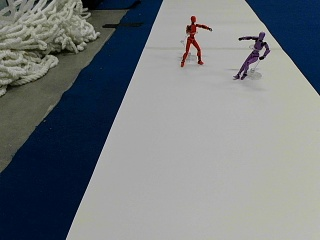pedestrian: (180, 15, 212, 67), (235, 29, 268, 79)
